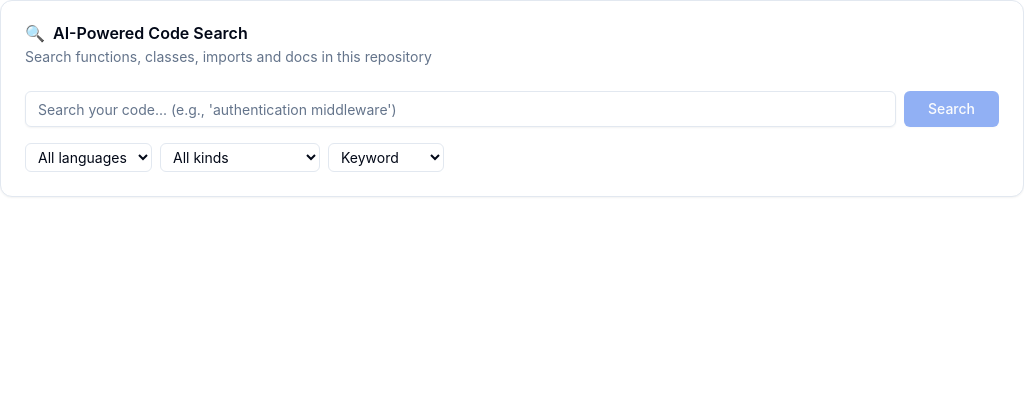
Test: SearchInterface search by meaning › shows no similarity on keyword hits
The width and height of the screenshot is (1024, 400).
Type "foo" into the dropdown named "search query" at {"x": 460, "y": 109}, box [25,91,896,127]
Then press Enter
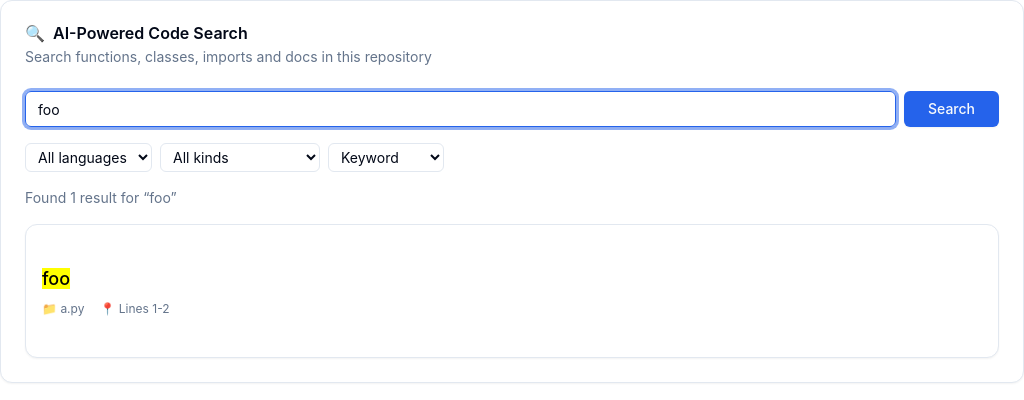
Expected: the text "Found 1 result for “foo”" is shown, [25,188,177,208]
